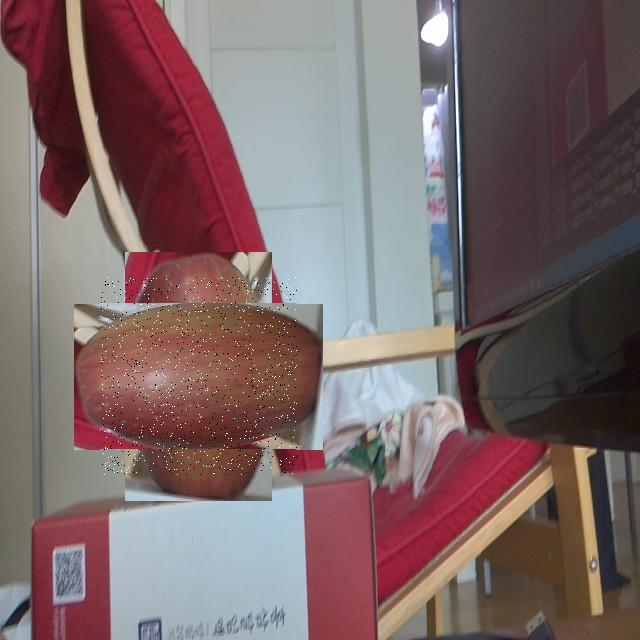apple: (100, 278, 297, 476)
